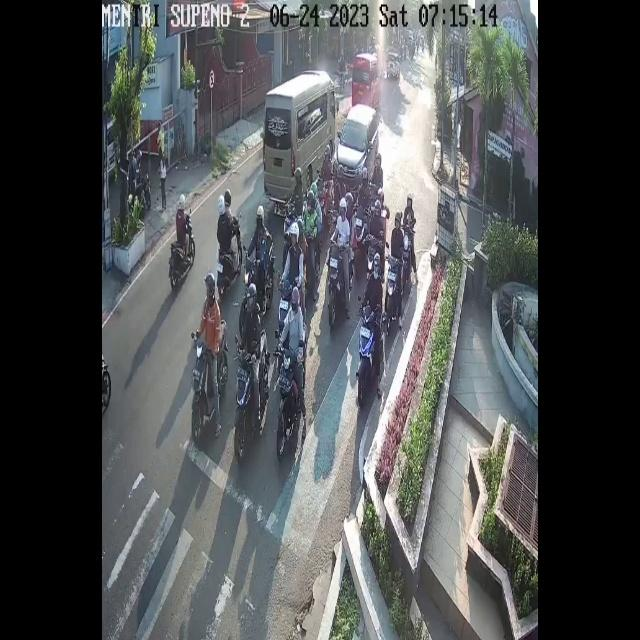bus: (234, 328, 270, 461), (191, 318, 229, 438), (276, 342, 303, 452), (242, 239, 274, 312), (217, 215, 244, 296), (356, 306, 376, 405), (169, 213, 195, 289), (328, 238, 347, 327), (386, 256, 400, 327), (278, 278, 294, 330), (402, 226, 413, 288), (283, 203, 296, 241), (356, 203, 365, 256), (367, 234, 380, 270), (316, 179, 328, 210), (329, 209, 337, 237)
car: (264, 70, 336, 202), (352, 54, 380, 108)
motorcycle: (334, 104, 380, 194), (386, 52, 402, 80)
